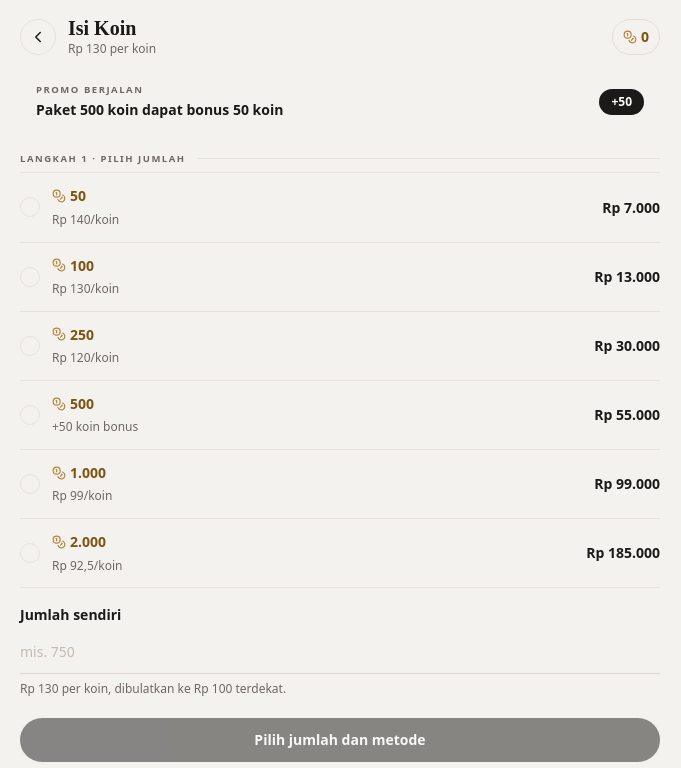
Test: tiga langkah isi koin · FR-WALLET-02 sampai FR-WALLET-05 › langkah metode dan ringkasan tertutup sampai jumlahnya dipilih
Expected: the heading "Langkah 1 · Pilih jumlah" is shown, [20, 153, 186, 164]
Expected: the text "Langkah 2 · Pilih metode" is not shown
Click the button "250 Rp 120/koin Rp 30.000" at (66, 344), box [20, 312, 660, 381]
(page scrolled)
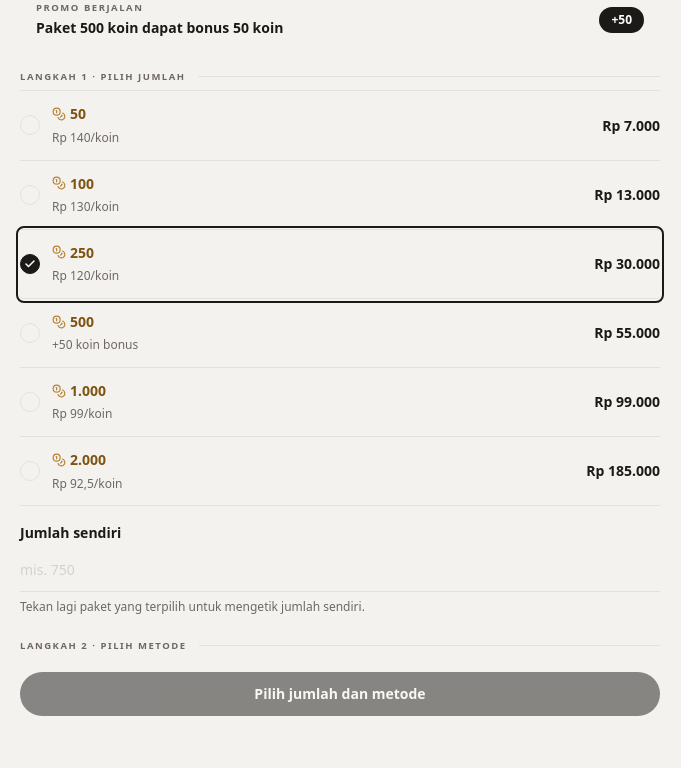
Expected: the button "Pilih jumlah dan metode" is disabled, [20, 672, 660, 716]
Expected: the heading "Langkah 2 · Pilih metode" is shown, [20, 640, 187, 652]
